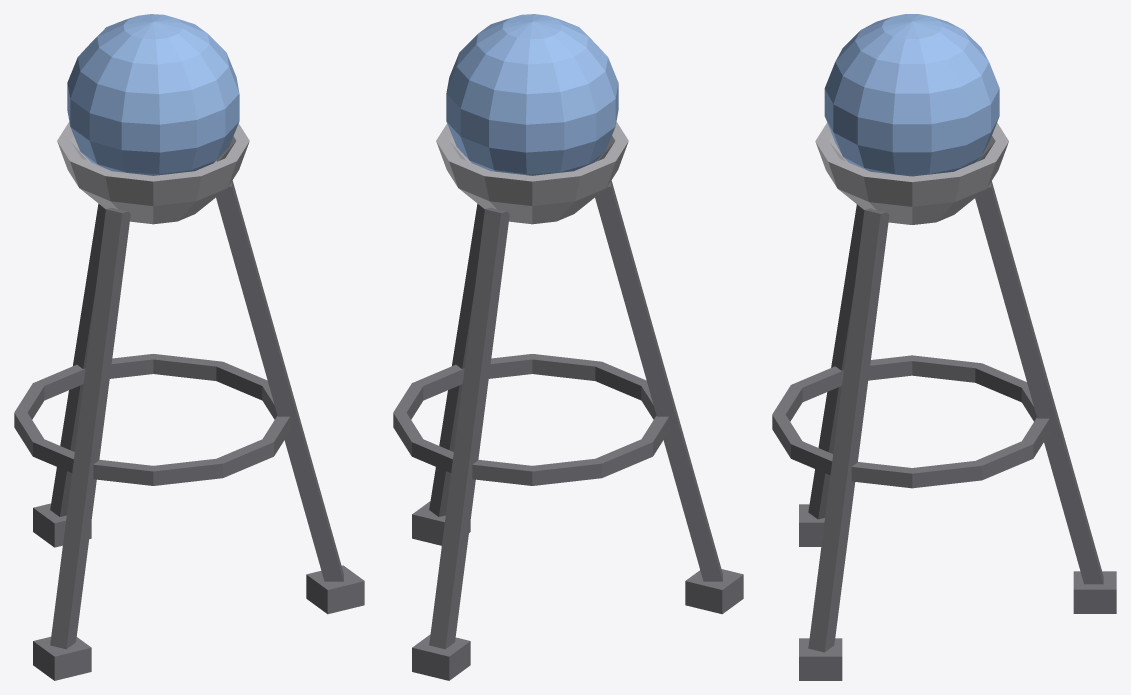
Rendered from prop-scrying-orb-tripod.glb.
3 renders of one model, left to right at view 1: azimuth 30°, elevation 25°; view 2: azimuth 150°, elevation 25°; view 3: azimuth 270°, elevation 25°, orthographic.
Visible parts, largest first — view 1: prop-scrying-orb-tripod; view 2: prop-scrying-orb-tripod; view 3: prop-scrying-orb-tripod.
Part boxes in pixels (<box>): prop-scrying-orb-tripod: <box>14,14,364,680</box>; prop-scrying-orb-tripod: <box>393,14,743,680</box>; prop-scrying-orb-tripod: <box>772,14,1116,680</box>.
Size of the model in its own units: 0.6689 by 1.19 by 0.64.
